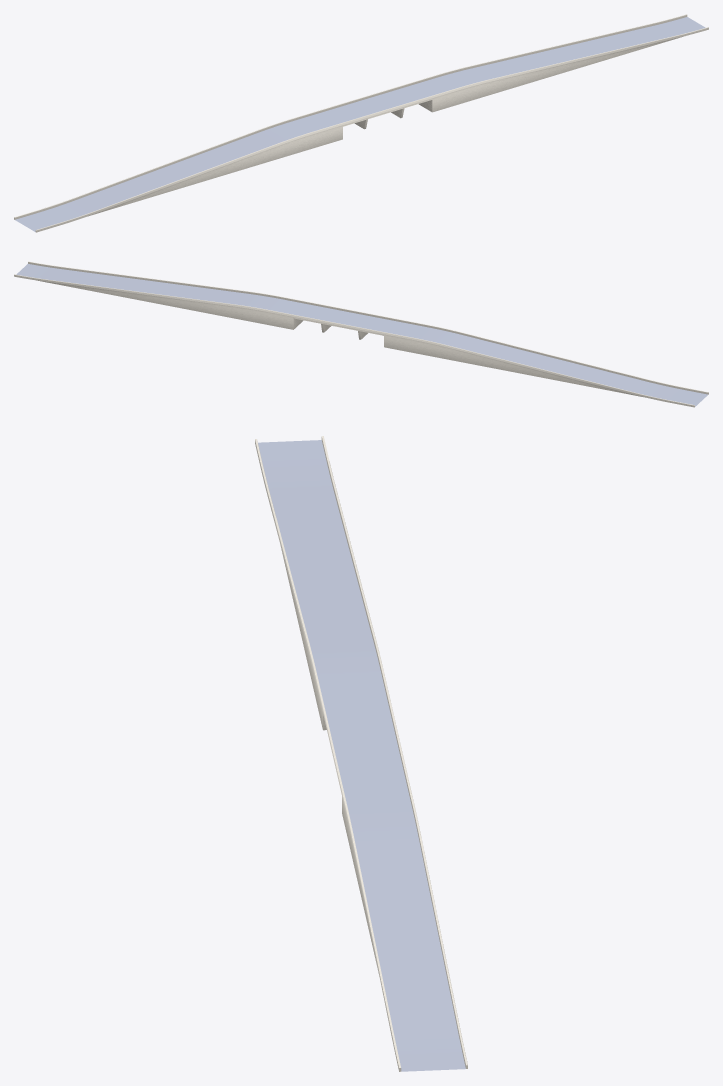
File: Raymbek-Seifullin.glb
3 renders of one model, top to bottom at view 1: azimuth 30°, elevation 25°; view 2: azimuth 150°, elevation 25°; view 3: azimuth 270°, elevation 25°, orthographic. The views are drawn at different scales.
Visible parts, largest first — view 1: group_2, group_0; view 2: group_2, group_0; view 3: group_2, group_0.
Part boxes in pixels (x1=…): group_2: x1=15, y1=17, x2=705, y2=231; group_0: x1=14, y1=14, x2=708, y2=232; group_2: x1=16, y1=264, x2=707, y2=406; group_0: x1=14, y1=261, x2=708, y2=407; group_2: x1=258, y1=440, x2=465, y2=1071; group_0: x1=255, y1=436, x2=467, y2=1071.
Size of the model in its own units: 355 by 8 by 50.66.
2 materials, 1 textured.
